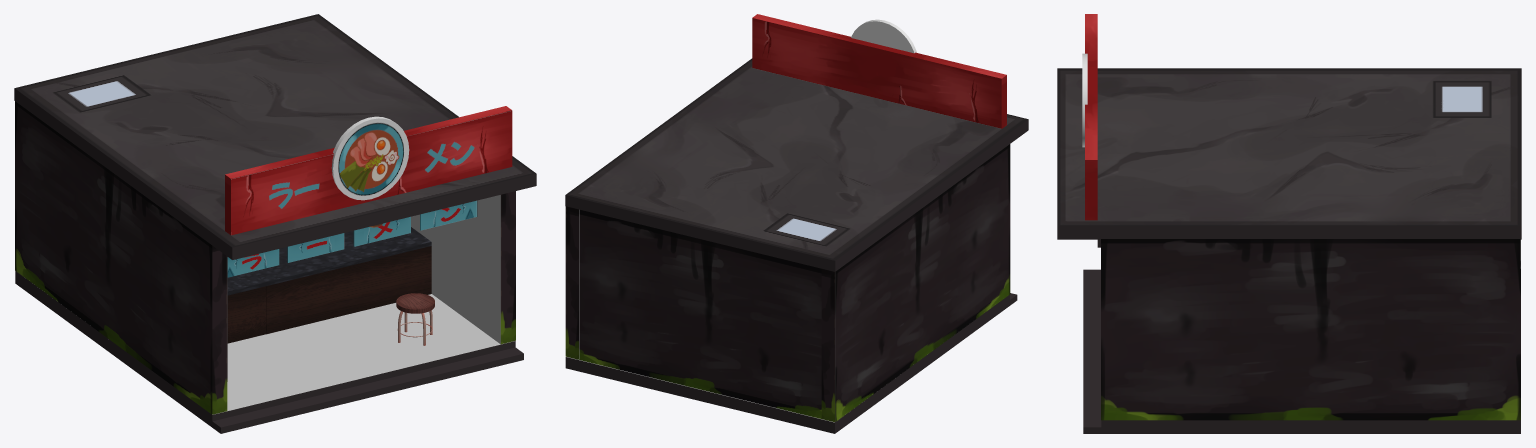
Rendered from Lame_Shop.fbx.
3 renders of one model, left to right at view 1: azimuth 30°, elevation 25°; view 2: azimuth 150°, elevation 25°; view 3: azimuth 270°, elevation 25°, orthographic. The views are drawn at different scales.
Parts seen in each view (by area): view 1: Roof, Wall_SIde.002, Floor/Ground, Roof.001, Cylinder, Wall_SIde.001, Sign, Stool, Name_Curtin.001, Name_Curtin.003, Name_Curtin.002, Name_Curtin; view 2: Roof, Wall_back, Wall_SIde.002, Roof.001, Floor/Ground, Wall_SIde.001, Sign; view 3: Roof, Wall_SIde.001, Floor/Ground, Roof.001.
Boxes of the visible parts, left/top/right/bottom form: Roof: left=14, top=14, right=536, bottom=259; Wall_SIde.002: left=15, top=101, right=227, bottom=414; Floor/Ground: left=15, top=271, right=523, bottom=433; Roof.001: left=225, top=106, right=512, bottom=235; Cylinder: left=227, top=227, right=431, bottom=343; Wall_SIde.001: left=411, top=191, right=515, bottom=344; Sign: left=331, top=116, right=409, bottom=200; Stool: left=396, top=293, right=434, bottom=345; Name_Curtin.001: left=287, top=233, right=344, bottom=262; Name_Curtin.003: left=420, top=200, right=477, bottom=230; Name_Curtin.002: left=353, top=216, right=410, bottom=246; Name_Curtin: left=227, top=249, right=279, bottom=277; Roof: left=565, top=58, right=1028, bottom=271; Wall_back: left=579, top=209, right=842, bottom=422; Wall_SIde.002: left=821, top=144, right=1010, bottom=421; Roof.001: left=752, top=14, right=1006, bottom=128; Floor/Ground: left=565, top=293, right=1017, bottom=433; Wall_SIde.001: left=565, top=206, right=579, bottom=359; Sign: left=851, top=19, right=916, bottom=53; Roof: left=1057, top=68, right=1521, bottom=247; Wall_SIde.001: left=1101, top=239, right=1520, bottom=420; Floor/Ground: left=1083, top=269, right=1520, bottom=433; Roof.001: left=1085, top=14, right=1097, bottom=220.
Size of the model in its own units: 522 by 457 by 649.
